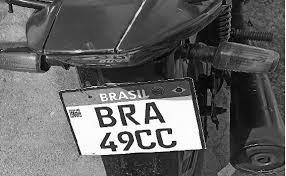placa_mercosul: (60, 77, 207, 156)
